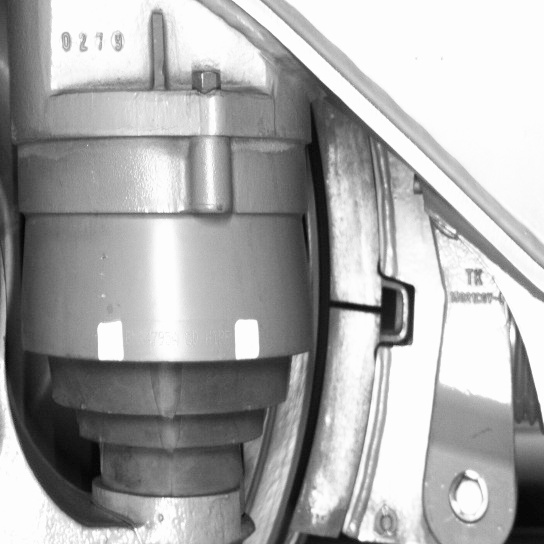KnifeSwitch: (260, 141, 400, 541)
